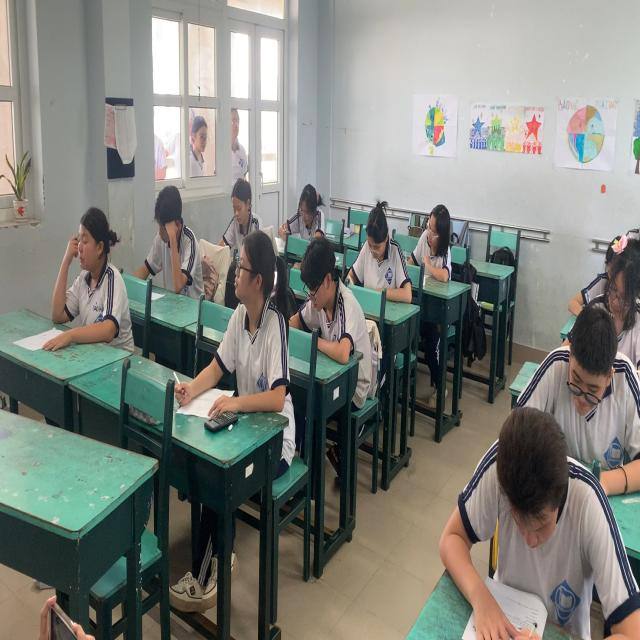not_cheating: (412, 472, 619, 640), (24, 167, 148, 389), (194, 234, 304, 472), (519, 412, 640, 615), (268, 219, 366, 419), (120, 147, 212, 329), (563, 320, 640, 496), (340, 190, 426, 344), (385, 185, 471, 334), (195, 159, 281, 302), (263, 146, 345, 286), (599, 258, 640, 438)
